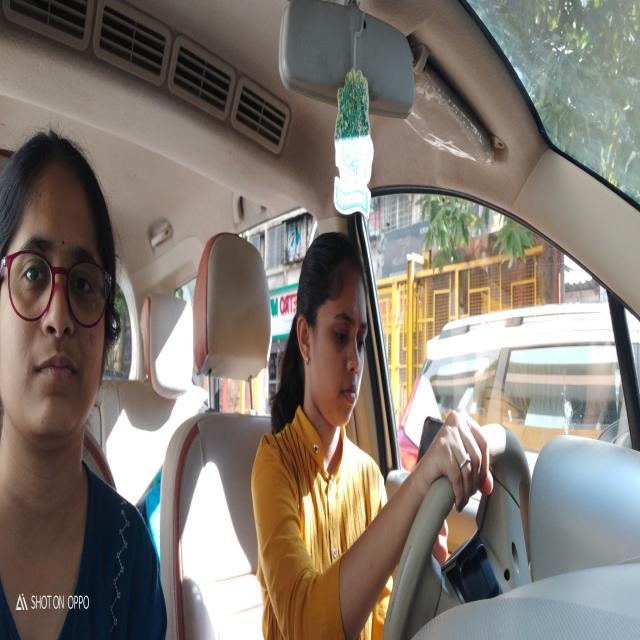mobile: (415, 415, 462, 491)
person: (0, 128, 122, 465), (295, 236, 372, 448)
